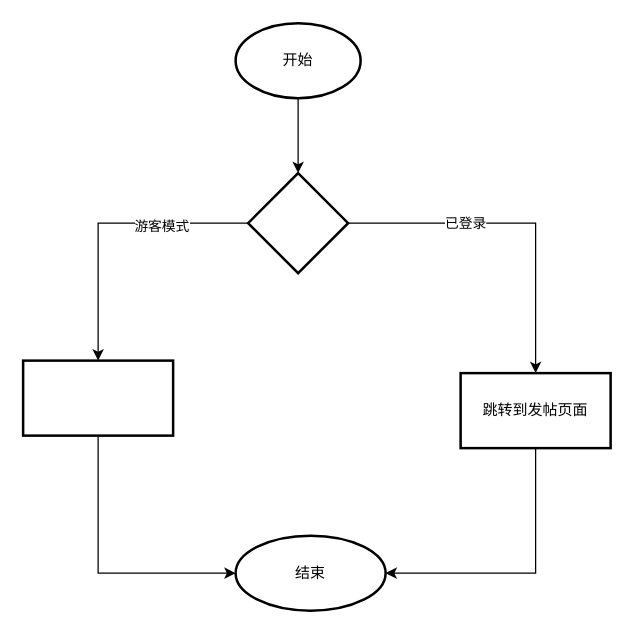
Image size: 633x633. Some labels were removed from this diagram. The centre of each missing label's shape, as x and y in pixels:
"弹出提示框“请先授权登录”" goes at point 97,397.
"是否为登录状态？" goes at point 297,222.
